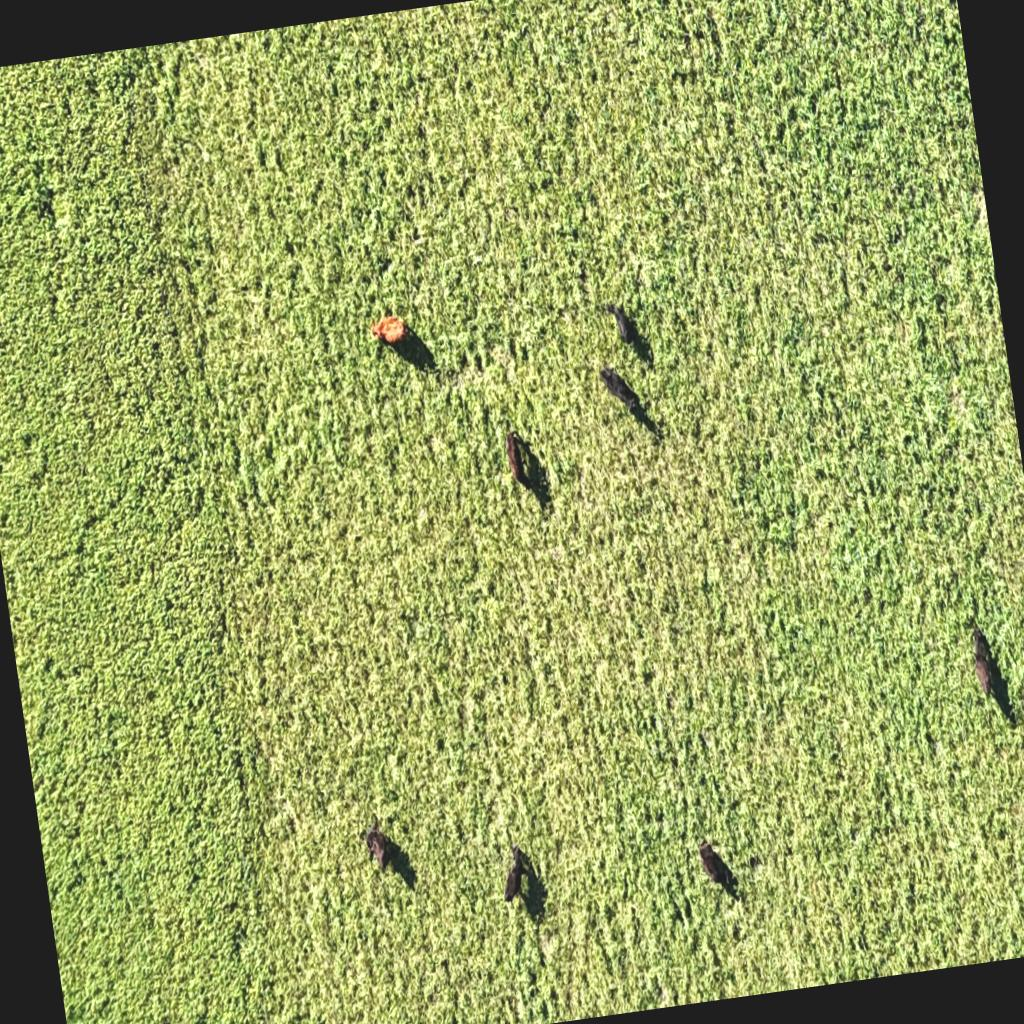cow: (597, 356, 647, 422), (497, 845, 539, 908), (696, 836, 736, 896), (968, 622, 998, 702), (605, 296, 642, 351), (368, 308, 412, 352), (361, 816, 394, 874), (504, 430, 526, 485)
